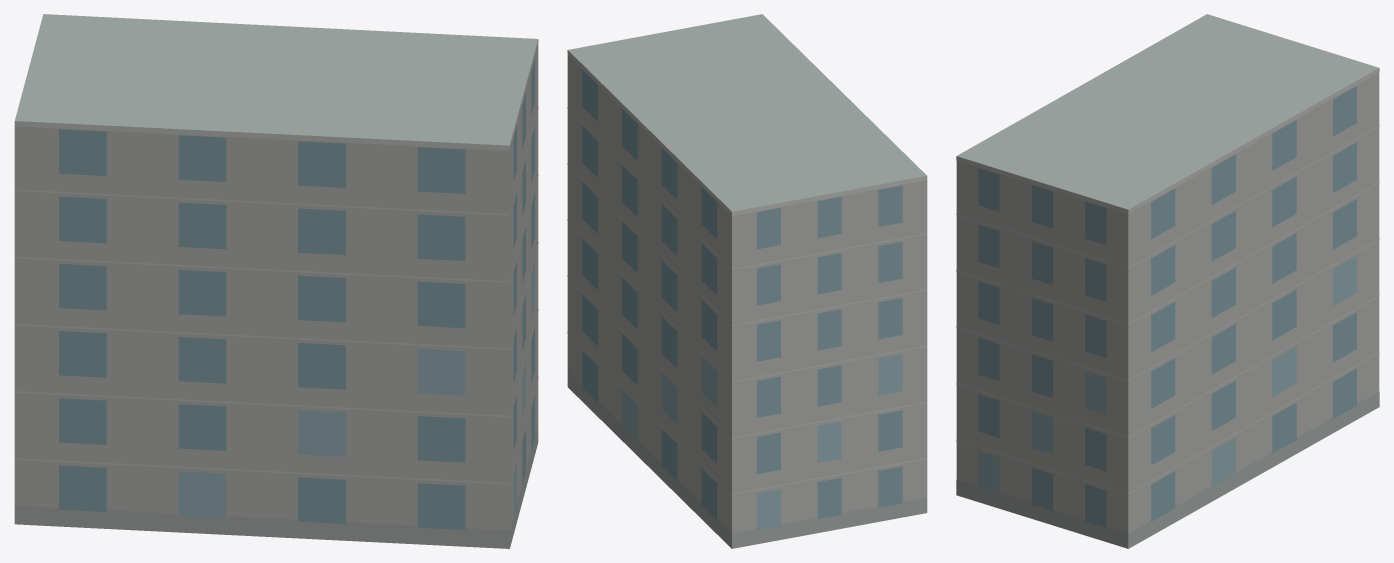
File: survey-upis-33025457.glb
3 views of the same model, side by side, from view 1: azimuth 30°, elevation 25°; view 2: azimuth 150°, elevation 25°; view 3: azimuth 270°, elevation 25° (orthographic). The views are drawn at different scales.
Visible parts, largest first — view 1: survey-upis-33025457.tmp; view 2: survey-upis-33025457.tmp; view 3: survey-upis-33025457.tmp.
Boxes of the visible parts, box(x1,y1,x2,y2) form: survey-upis-33025457.tmp: box(14, 14, 538, 548); survey-upis-33025457.tmp: box(567, 14, 927, 548); survey-upis-33025457.tmp: box(956, 14, 1379, 548).
Size of the model in its own units: 22.67 by 18.3 by 20.7.
